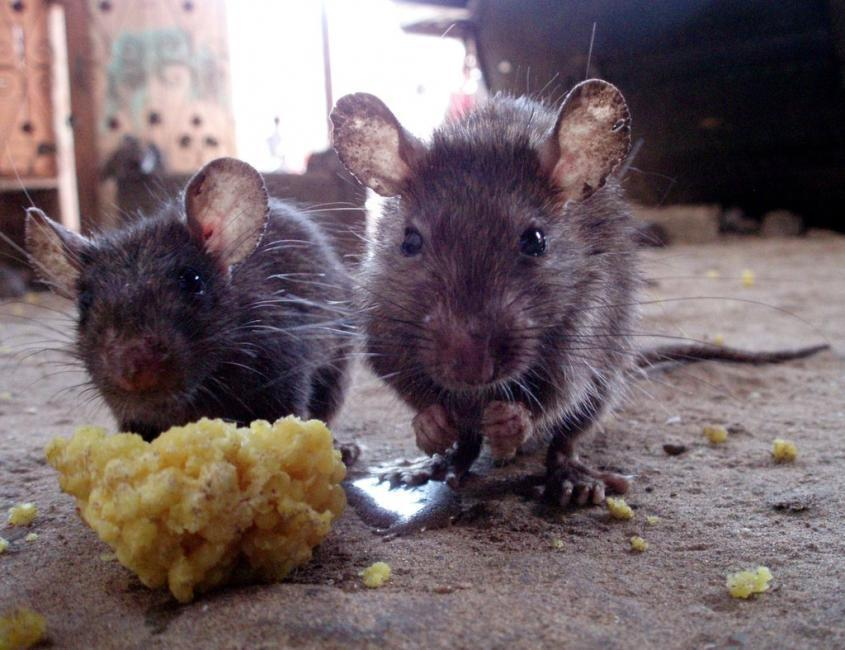rat: (328, 79, 643, 508), (17, 154, 354, 440)
